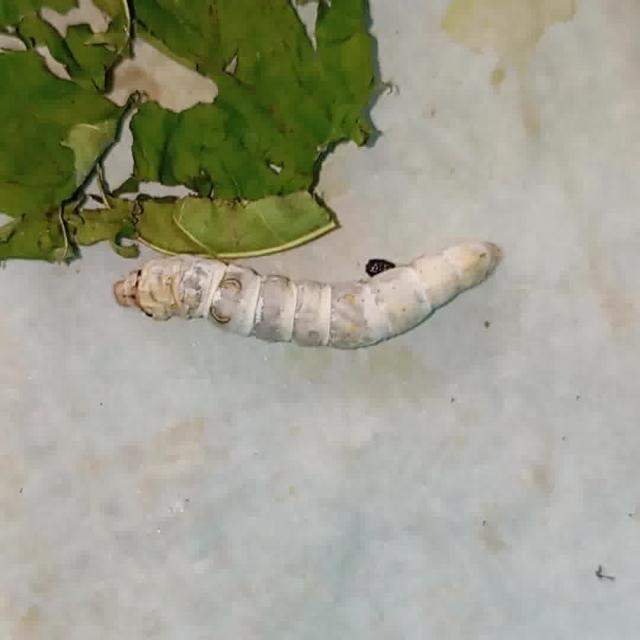Grasserie: (104, 204, 513, 371)
